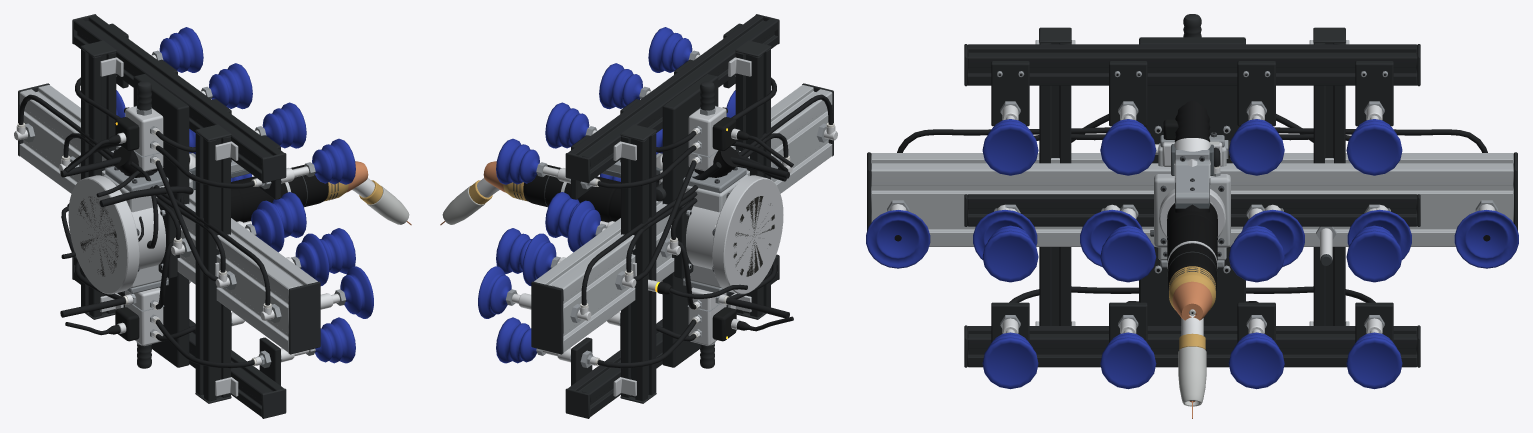
File: tools.glb
The picture shows the model from 3 angles, left to right: view 1: azimuth 30°, elevation 25°; view 2: azimuth 150°, elevation 25°; view 3: azimuth 270°, elevation 25°; orthographic projection. The views are drawn at different scales.
Visible parts, largest first — view 1: vacuum_frame, sheet_anod_alu, vacuum_cup_blue, vacuum_alu, vacuum_cable, sheet_cup_blue, sheet_cable, vacuum_motor_cap, sheet_motor_cap, jaw_alu, vacuum_motor, sheet_alu (+14 smaller); view 2: vacuum_frame, sheet_anod_alu, vacuum_cup_blue, vacuum_alu, vacuum_cable, sheet_cup_blue, vacuum_motor_cap, sheet_cable, sheet_motor_cap, vacuum_motor, vacuum_chrome, sheet_alu (+13 smaller); view 3: vacuum_frame, vacuum_cup_blue, sheet_anod_alu, sheet_cup_blue, vacuum_motor_cap, sheet_cable, torch_torch_black, vacuum_chrome, jaw_l_steel, vacuum_cable, vacuum_steel, plasma_anod_alu (+9 smaller).
Boxes of the visible parts, <box> form: vacuum_frame: <box>74,15,283,416</box>; sheet_anod_alu: <box>19,85,317,352</box>; vacuum_cup_blue: <box>159,27,355,363</box>; vacuum_alu: <box>68,57,238,396</box>; vacuum_cable: <box>60,77,254,368</box>; sheet_cup_blue: <box>116,90,373,318</box>; sheet_cable: <box>18,94,270,305</box>; vacuum_motor_cap: <box>72,14,286,418</box>; sheet_motor_cap: <box>18,83,320,354</box>; jaw_alu: <box>80,202,115,270</box>; vacuum_motor: <box>107,117,139,341</box>; sheet_alu: <box>77,171,192,276</box>; vacuum_frame: <box>568,15,777,416</box>; sheet_anod_alu: <box>534,85,832,352</box>; vacuum_cup_blue: <box>496,27,692,363</box>; vacuum_alu: <box>613,57,783,396</box>; vacuum_cable: <box>597,77,793,368</box>; sheet_cup_blue: <box>478,90,735,318</box>; vacuum_motor_cap: <box>565,14,779,418</box>; sheet_cable: <box>581,94,833,305</box>; sheet_motor_cap: <box>531,83,833,354</box>; vacuum_motor: <box>712,117,749,341</box>; vacuum_chrome: <box>542,54,740,365</box>; sheet_alu: <box>659,173,774,276</box>; vacuum_frame: <box>967,37,1417,367</box>; vacuum_cup_blue: <box>982,119,1402,389</box>; sheet_anod_alu: <box>871,153,1513,246</box>; sheet_cup_blue: <box>866,209,1518,268</box>; vacuum_motor_cap: <box>964,14,1420,367</box>; sheet_cable: <box>897,127,1487,152</box>; torch_torch_black: <box>1167,183,1217,260</box>; vacuum_chrome: <box>1002,105,1382,333</box>; jaw_l_steel: <box>1175,150,1209,203</box>; vacuum_cable: <box>1009,114,1375,302</box>; vacuum_steel: <box>997,71,1387,328</box>; plasma_anod_alu: <box>1154,174,1230,247</box>.
Bounding box in the file's own units: 0.4503 × 0.3491 × 0.6099.
